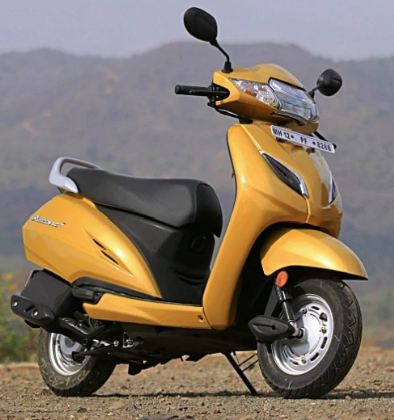bike: (11, 6, 369, 402)
